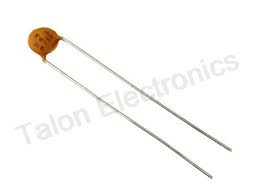ceramic capacitor: (7, 13, 104, 87)
